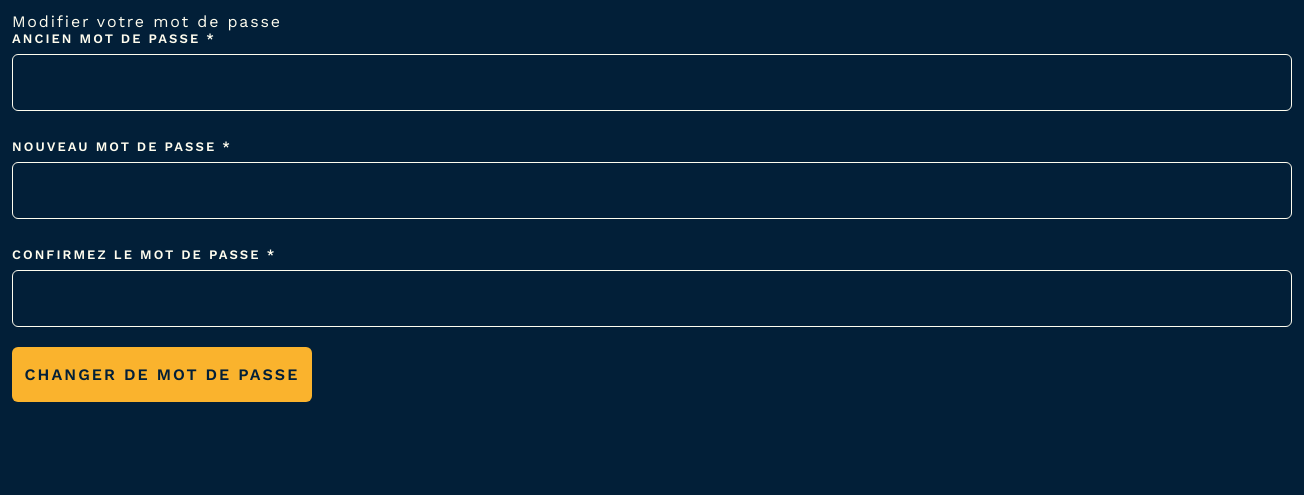
Test: UpdateProfileForm component tests › should set new password error if password is under 8 characters
In the password field labelled "Ancien mot de passe *": (652, 82) [12, 54, 1292, 111], type "awesomePassword"
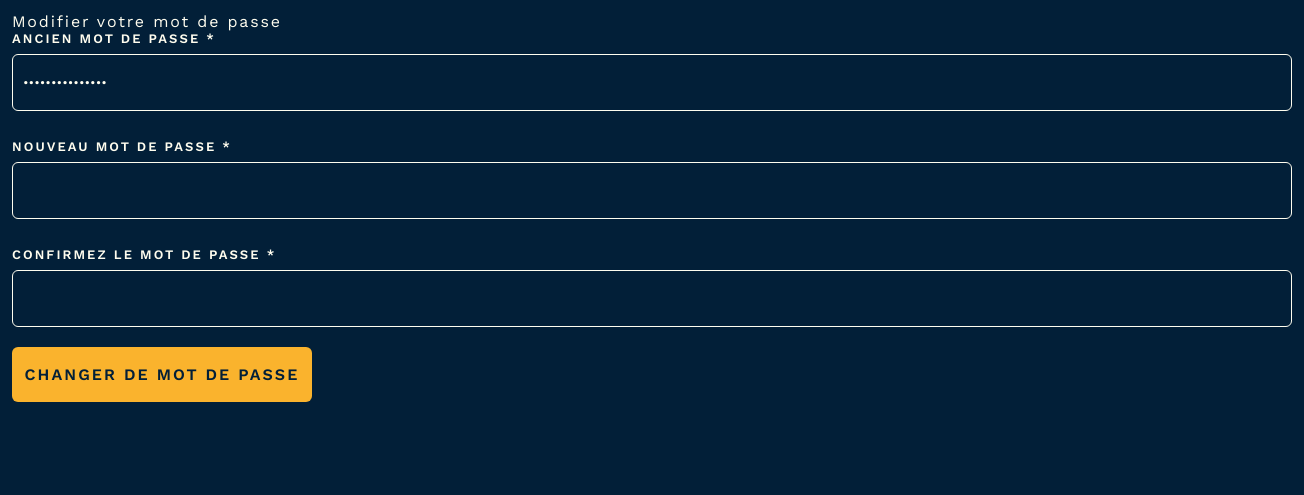
In the password field labelled "Nouveau mot de passe *": (652, 190) [12, 162, 1292, 219], type "123"
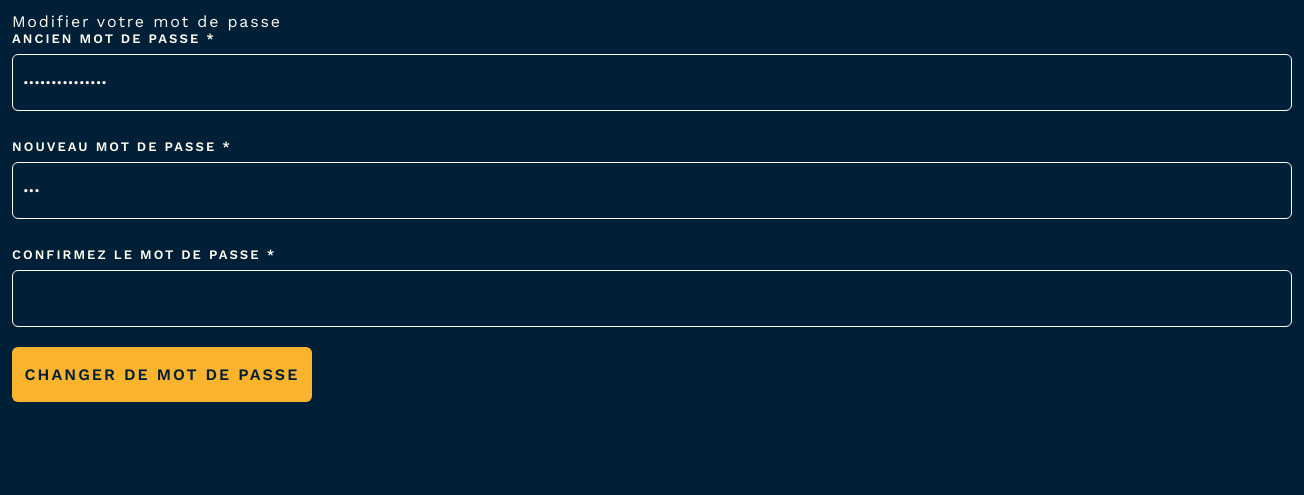
In the password field labelled "Confirmez le mot de passe *": (652, 298) [12, 270, 1292, 327], type "123"
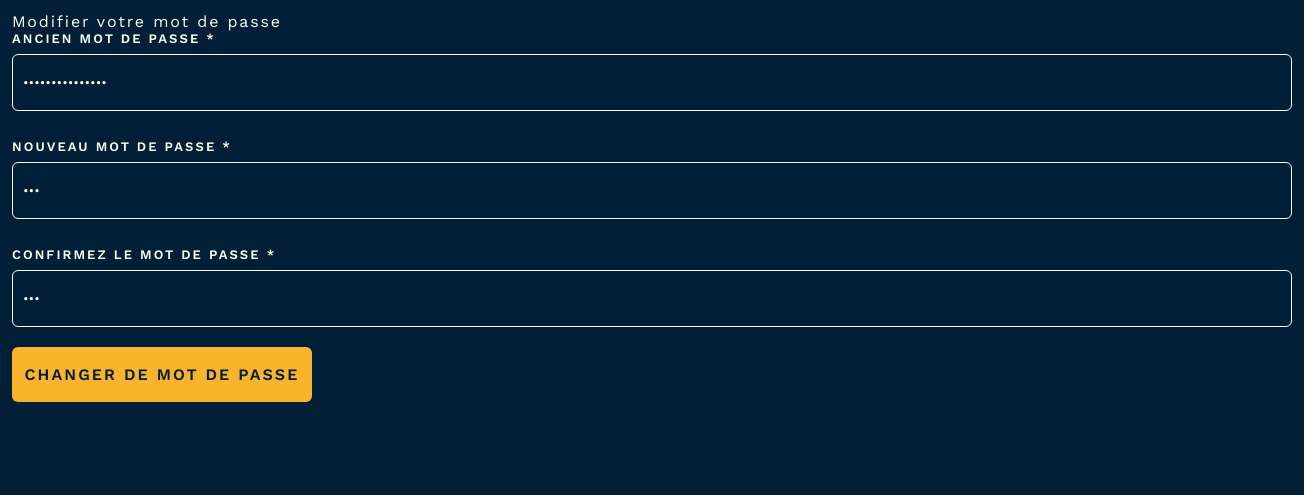
Submit the form from the button "Changer de mot de passe", box [12, 347, 312, 402]
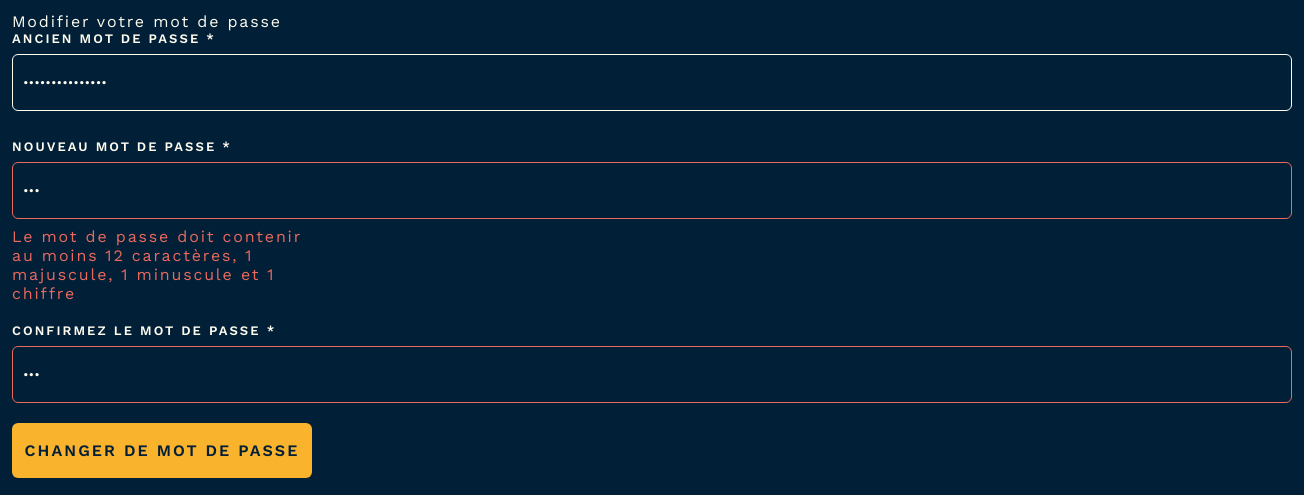
Expected: the text "Le mot de passe doit contenir au moins 12 caractères, 1 majuscule, 1 minuscule et 1 chiffre" is shown, [12, 227, 302, 303]
